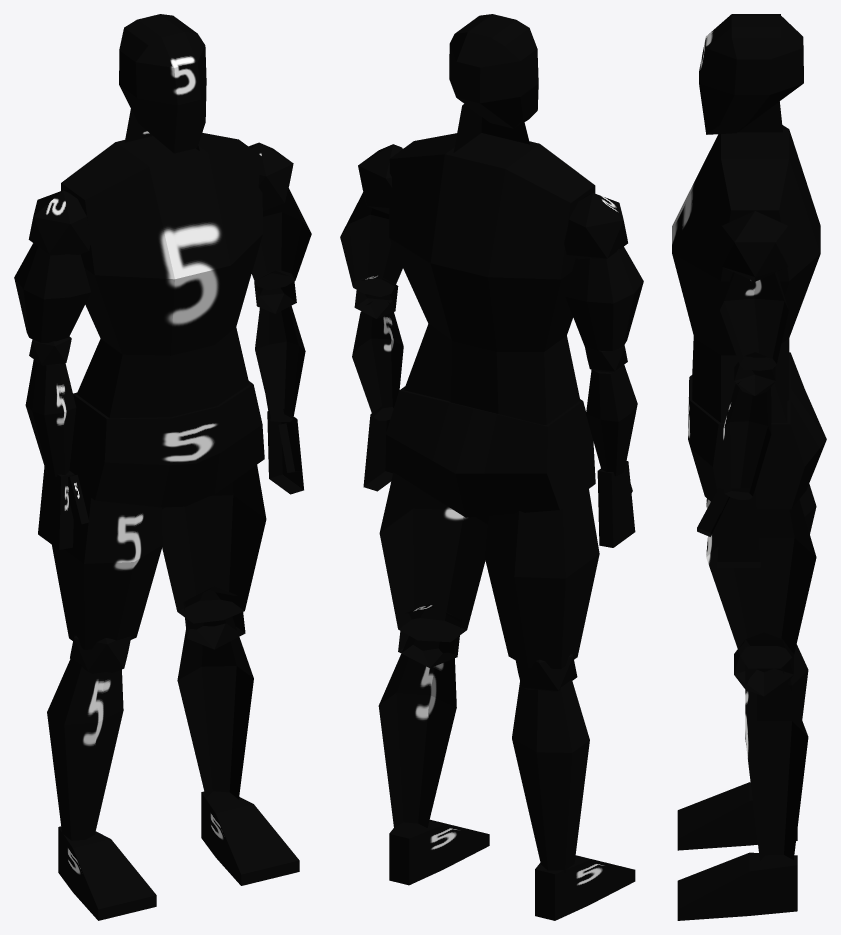
Rendered from EnemySpawn5.fbx.
3 renders of one model, left to right at view 1: azimuth 30°, elevation 25°; view 2: azimuth 150°, elevation 25°; view 3: azimuth 270°, elevation 25°, orthographic. The views are drawn at different scales.
Parts seen in each view (by area): view 1: Character_Cube.001; view 2: Character_Cube.001; view 3: Character_Cube.001.
Boxes of the visible parts, left/top/right/bottom form: Character_Cube.001: left=14, top=14, right=311, bottom=920; Character_Cube.001: left=340, top=14, right=643, bottom=920; Character_Cube.001: left=672, top=14, right=826, bottom=920.
Bounding box in the file's own units: 1.1 × 3.18 × 0.525.
1 material, 1 textured.
